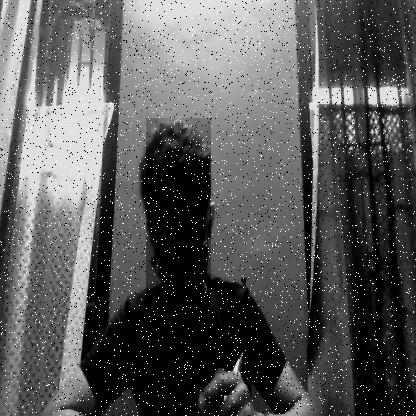Distracted: (146, 118, 211, 310)
